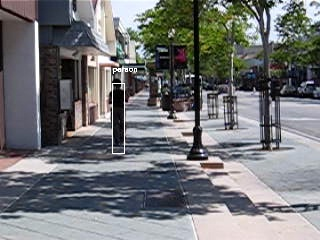person: (108, 78, 130, 144), (107, 78, 129, 144), (109, 78, 131, 144), (108, 77, 130, 143), (108, 79, 130, 145)
target_negative: (207, 92, 288, 156), (119, 210, 212, 237), (260, 193, 312, 239), (44, 175, 113, 208), (188, 143, 202, 174), (277, 193, 319, 199)
